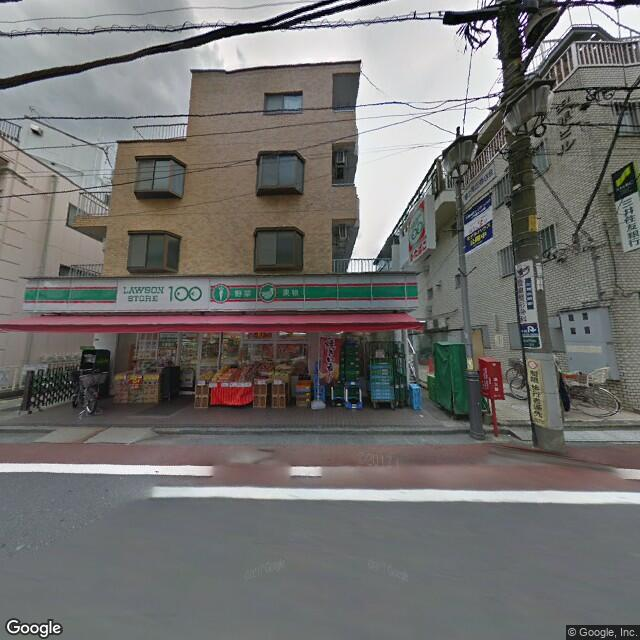lawson: (20, 268, 427, 313), (408, 196, 430, 254)
